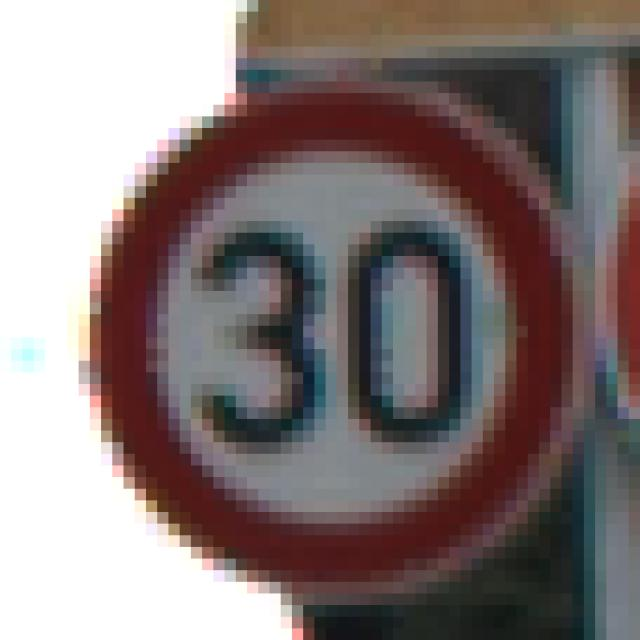Speed Limit -30-: (51, 58, 567, 570)
